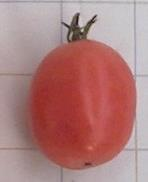tomato: (28, 40, 136, 170)
